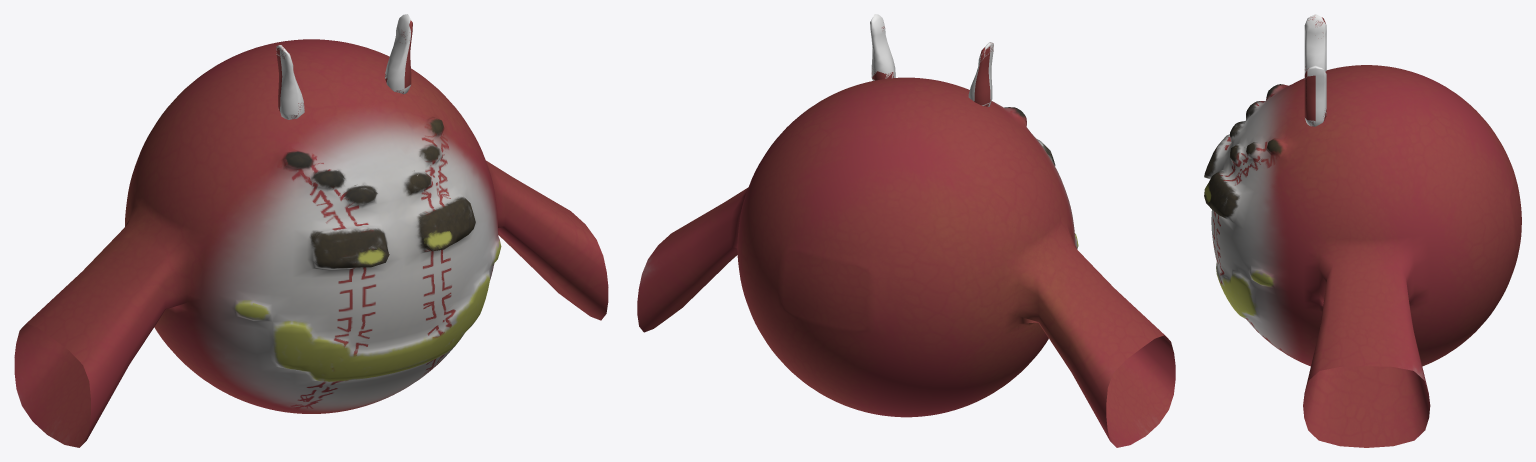
The model's file is DevilBoss.fbx.
The picture shows the model from 3 angles, left to right: view 1: azimuth 30°, elevation 25°; view 2: azimuth 150°, elevation 25°; view 3: azimuth 270°, elevation 25°; orthographic projection. The views are drawn at different scales.
Visible parts, largest first — view 1: Devil:pSphere1, polySurface1, Devil:pSphere1pCube2, Devil:pSphere1pCube1; view 2: Devil:pSphere1, polySurface1, Devil:pSphere1pCube2; view 3: Devil:pSphere1, polySurface1, Devil:pSphere1pCube1, Devil:pSphere1pCube2.
Boxes of the visible parts, box(x1,y1,x2,y2) form: Devil:pSphere1: box(14, 39, 608, 447); polySurface1: box(14, 20, 608, 437); Devil:pSphere1pCube2: box(385, 14, 412, 94); Devil:pSphere1pCube1: box(276, 45, 304, 119); Devil:pSphere1: box(637, 77, 1175, 447); polySurface1: box(637, 26, 1175, 447); Devil:pSphere1pCube2: box(870, 14, 895, 80); Devil:pSphere1: box(1204, 65, 1521, 447); polySurface1: box(1204, 16, 1521, 447); Devil:pSphere1pCube1: box(1304, 14, 1326, 73); Devil:pSphere1pCube2: box(1304, 65, 1326, 126).
Size of the model in its own units: 23.34 by 16.43 by 14.61.
2 materials, 1 textured.
